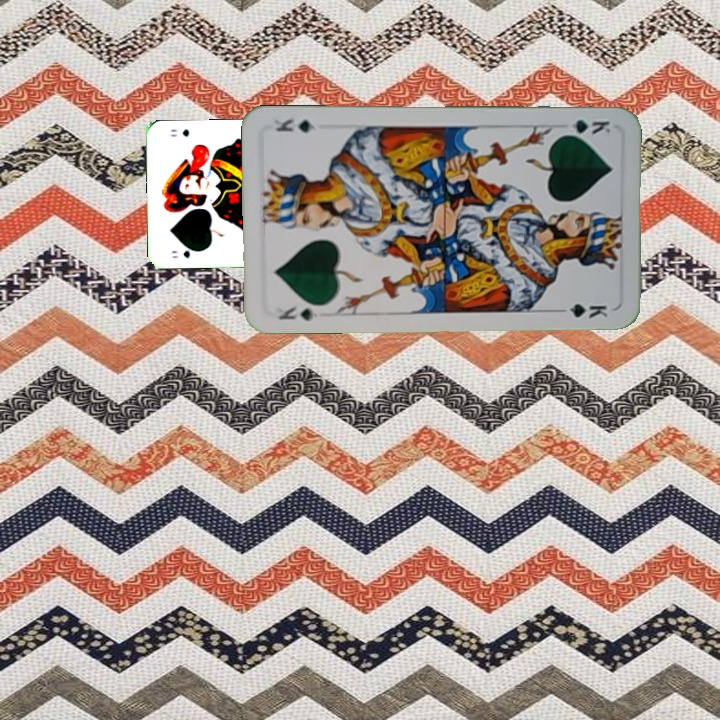GK: (556, 115, 613, 138), (275, 302, 320, 323)
GO: (167, 244, 203, 261)
